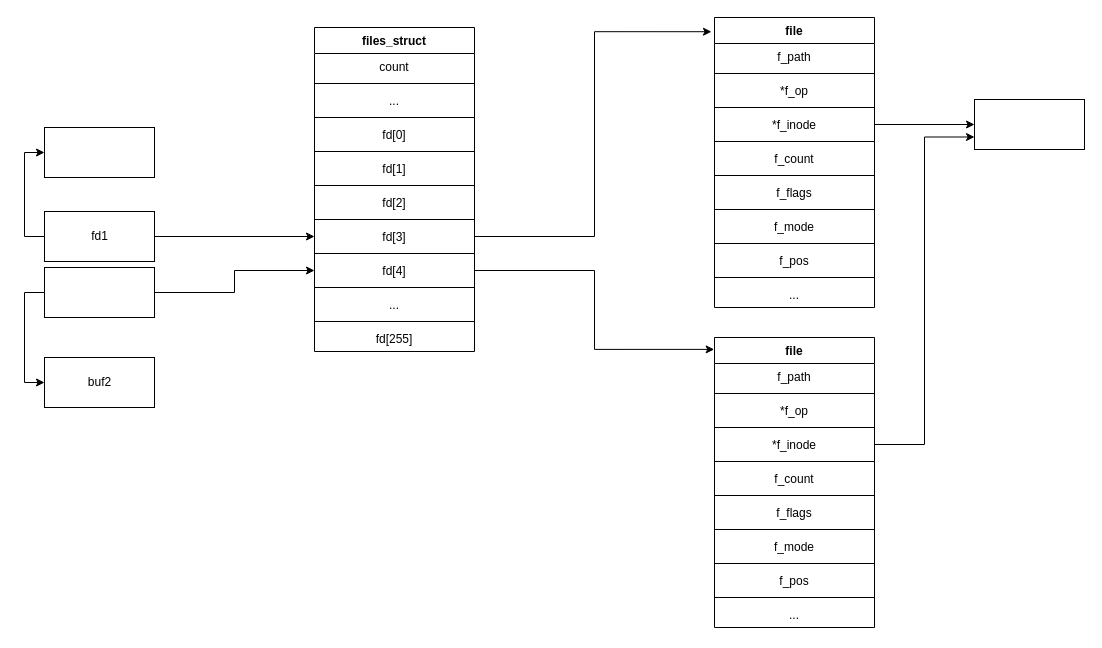
Image size: 1102x648. Some labels were removed from this diagram. Each missing label, with the centre of its shape:
buf1: (x=99, y=152)
fd2: (x=99, y=292)
inode: (x=1029, y=124)
